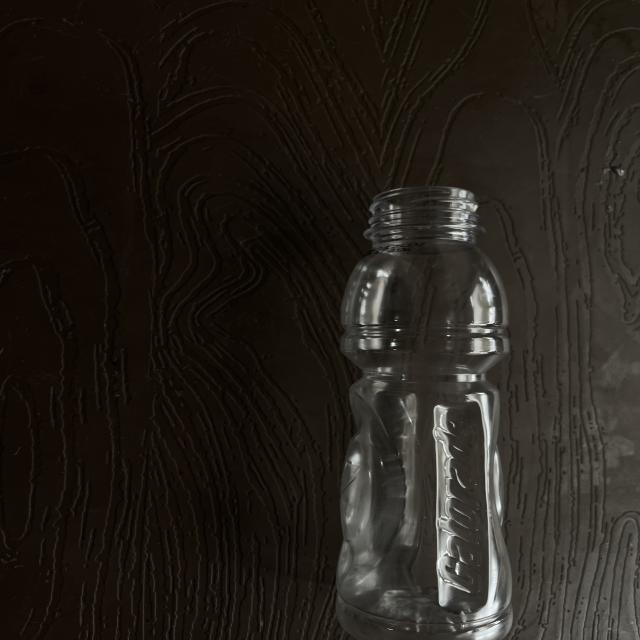PET_ClearBottle: (305, 179, 580, 633)
